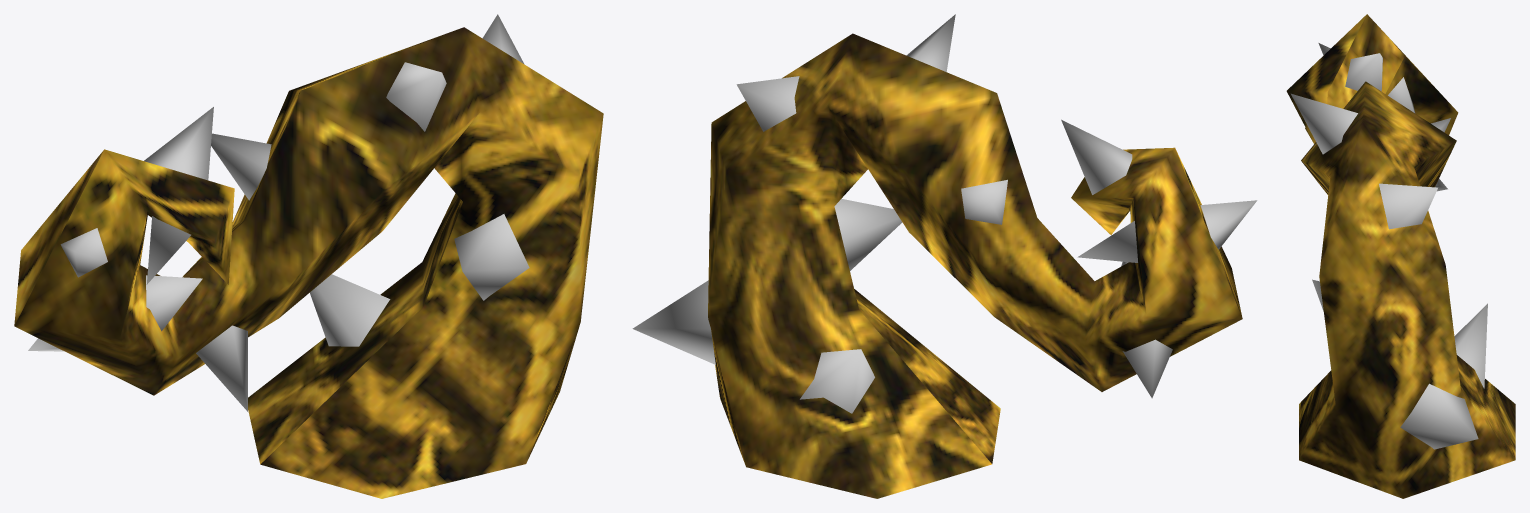
3 views of the same model, side by side, from view 1: azimuth 30°, elevation 25°; view 2: azimuth 150°, elevation 25°; view 3: azimuth 270°, elevation 25° (orthographic). The views are drawn at different scales.
Parts seen in each view (by area): view 1: object152; view 2: object152; view 3: object152.
Part boxes in pixels (x1=…): object152: x1=14, y1=14, x2=603, y2=498; object152: x1=632, y1=14, x2=1257, y2=498; object152: x1=1286, y1=14, x2=1515, y2=498.
Size of the model in its own units: 240 by 157 by 98.29.
